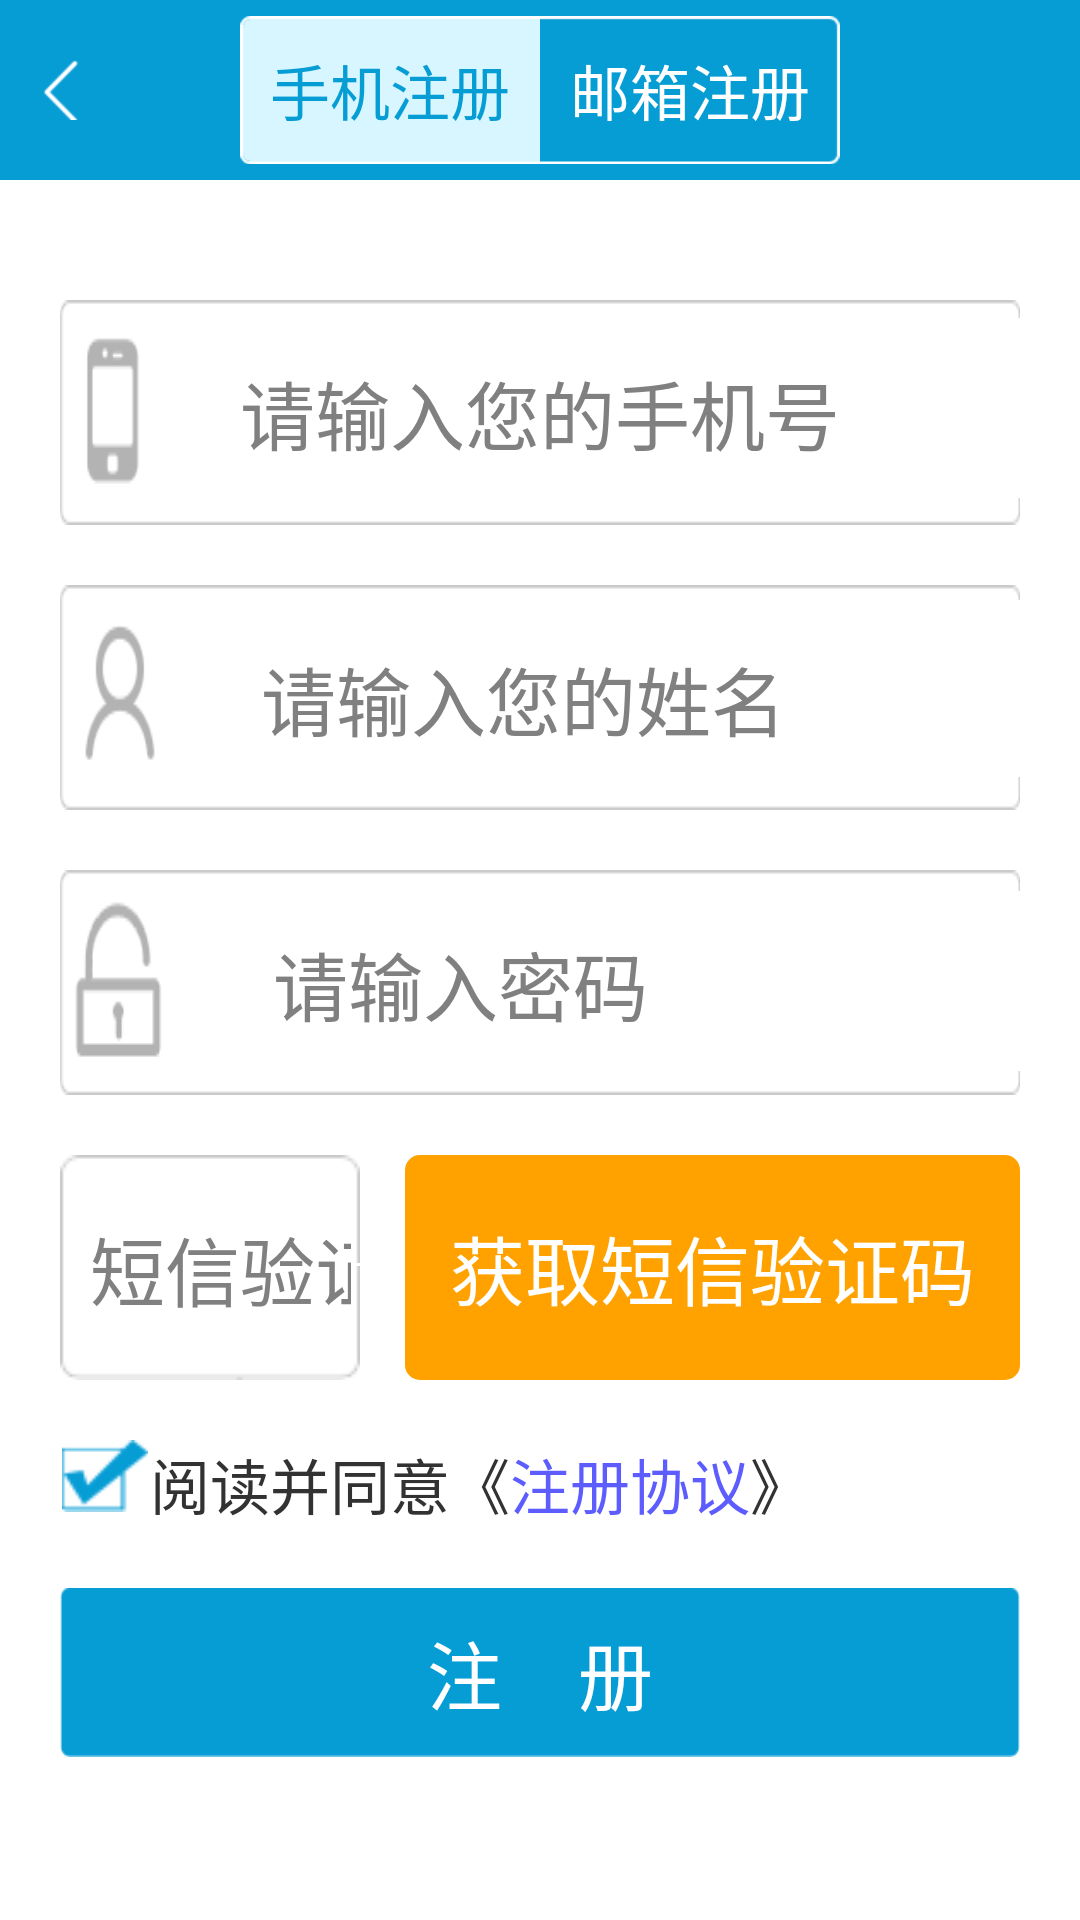

Where icons sit on this 1080px x 1920px app screen, as rect(x1, y1, x2, y2):
arrow left: rect(43, 60, 78, 120)
register check: rect(62, 1440, 148, 1512)
